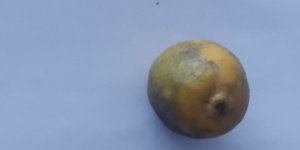BAD: (145, 36, 255, 144)
